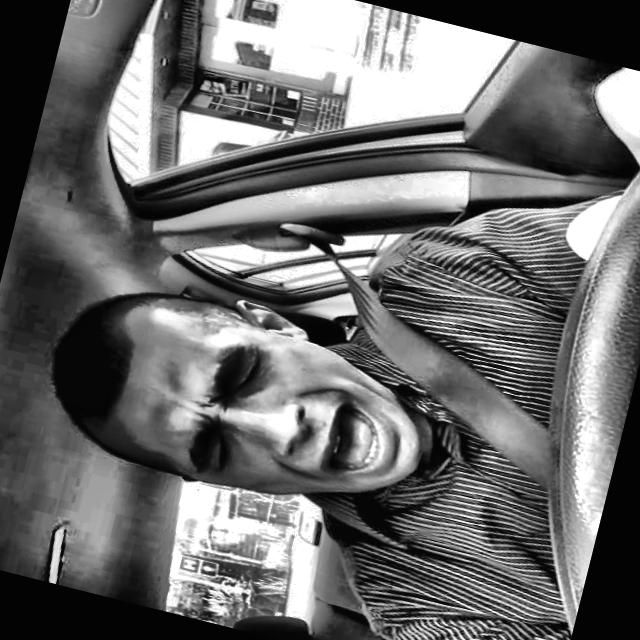closed_eyes: (222, 332, 271, 406), (205, 432, 246, 481)
open_mouth: (313, 393, 405, 487)
